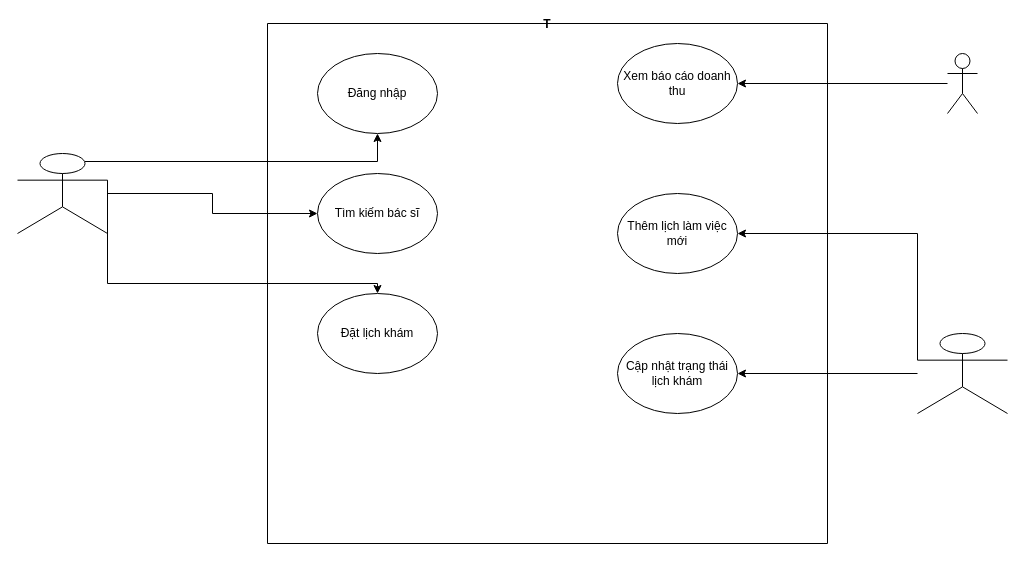
Image size: 1025x561. Some labels were removed from this diagram. The shapes that lost their labels are listed below. From the top down, each one's box as (x1, y1, x2, y2) in pixels, then its label:
(946, 52, 978, 114): Quản lý
(16, 152, 108, 234): Bệnh nhân
(916, 332, 1008, 414): Lễ tân
